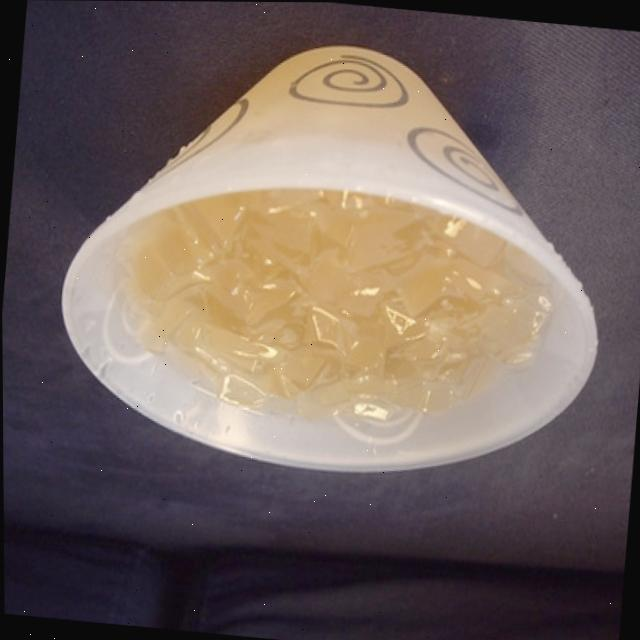蛋糕甜品: (20, 13, 630, 550)
